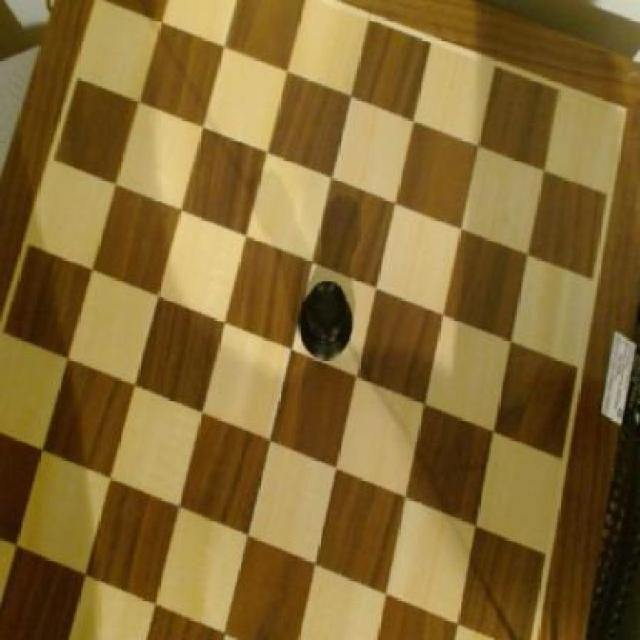black-queen: (295, 272, 357, 367)
